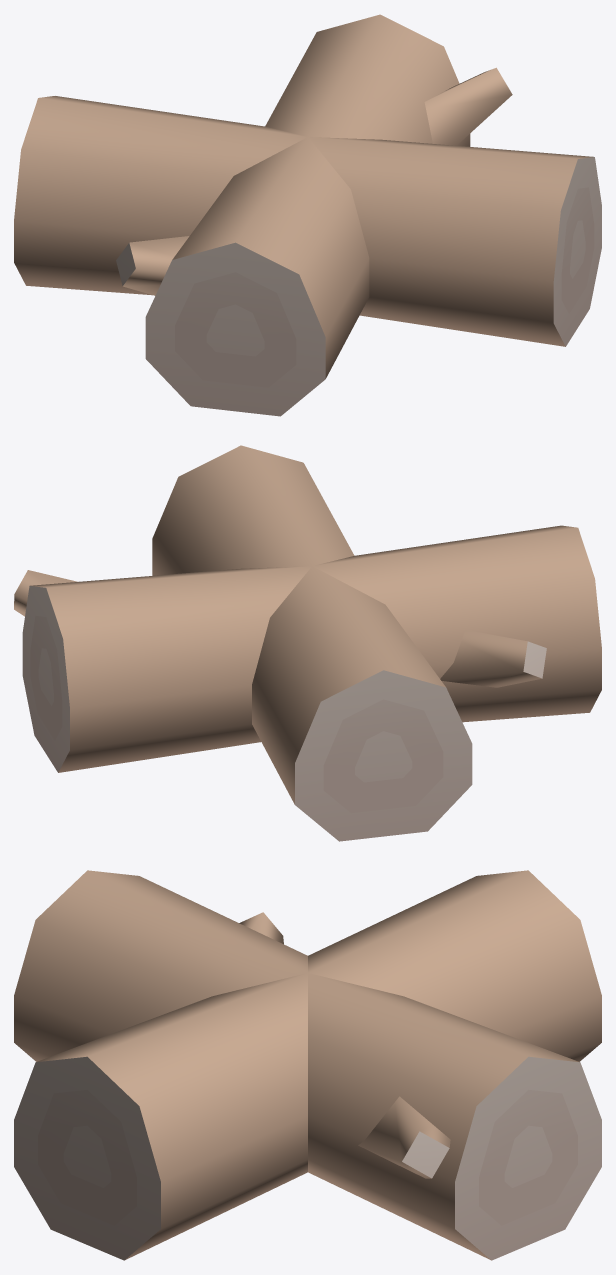
The model's file is logs.glb.
The picture shows the model from 3 angles, top to bottom: view 1: azimuth 30°, elevation 25°; view 2: azimuth 150°, elevation 25°; view 3: azimuth 270°, elevation 25°; orthographic projection. The views are drawn at different scales.
Parts seen in each view (by area): view 1: logs; view 2: logs; view 3: logs.
Part boxes in pixels (x1=…): logs: x1=14, y1=14, x2=601, y2=416; logs: x1=14, y1=445, x2=601, y2=841; logs: x1=14, y1=870, x2=601, y2=1260.
Bounding box in the file's own units: 0.2946 × 0.1 × 0.2828.
